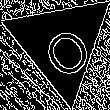O_NW: (29, 10, 93, 77)
